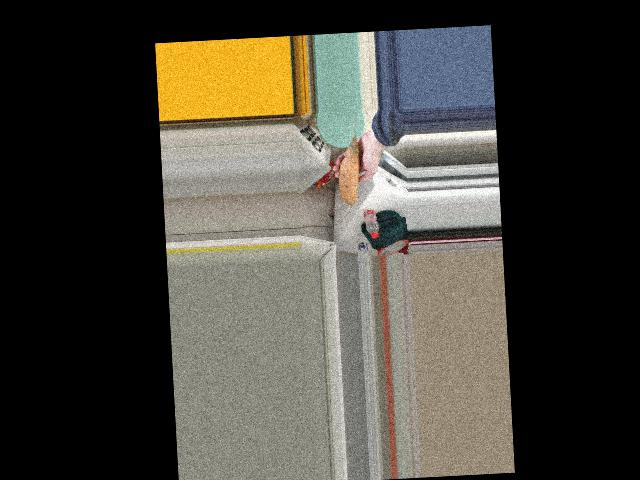sweet_potato: (335, 144, 361, 204)
